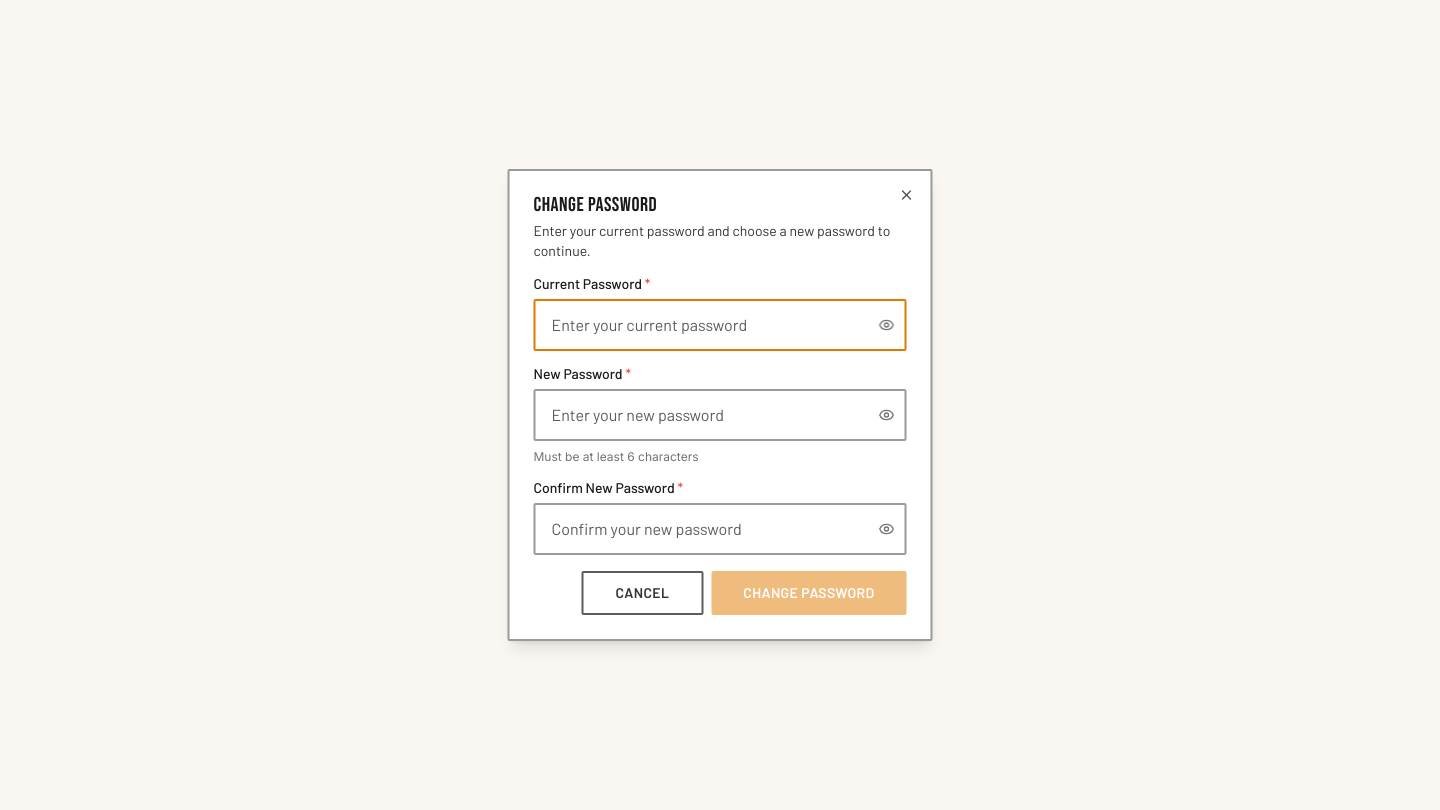
it: PasswordChangeForm › Password Visibility Toggle › should toggle current password visibility
This screenshot has width=1440, height=810.
Click the button named "Show current password": (886, 325) [878,317,894,333]
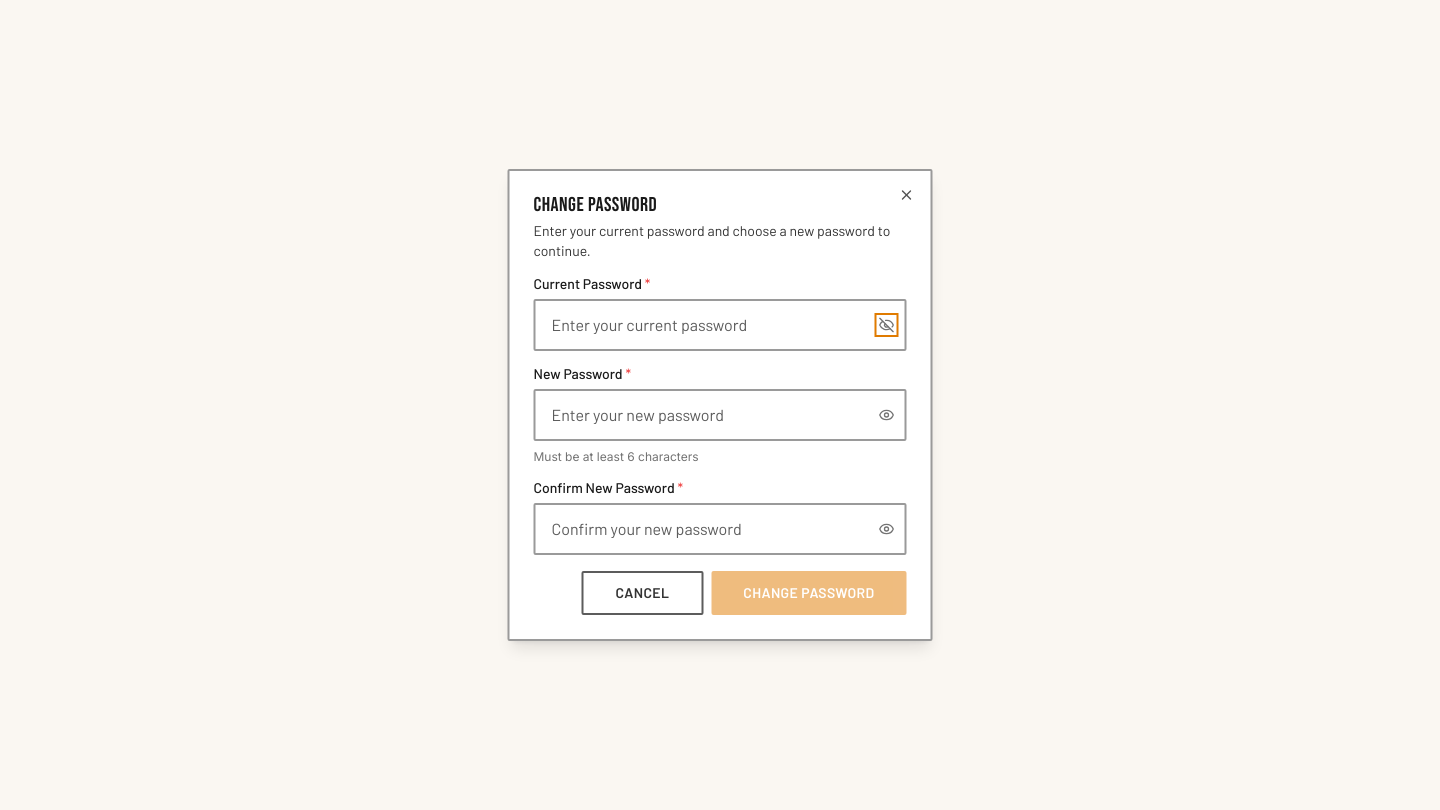
Now the button named "Hide current password" is shown, box [878,317,894,333]
